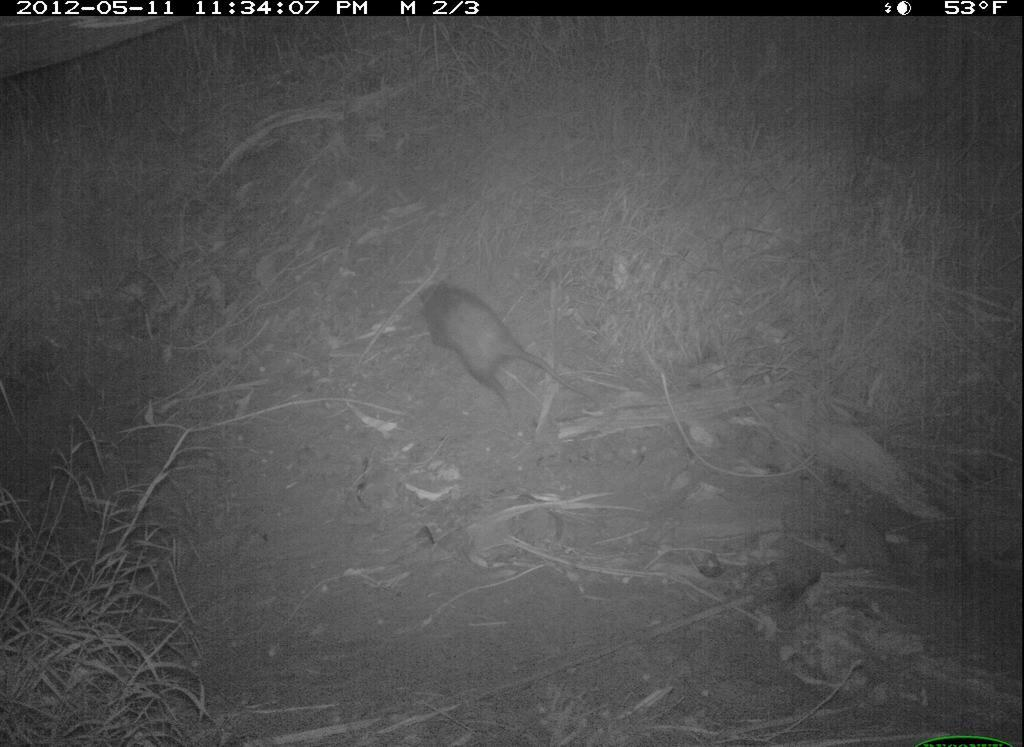opossum: (413, 278, 616, 436)
